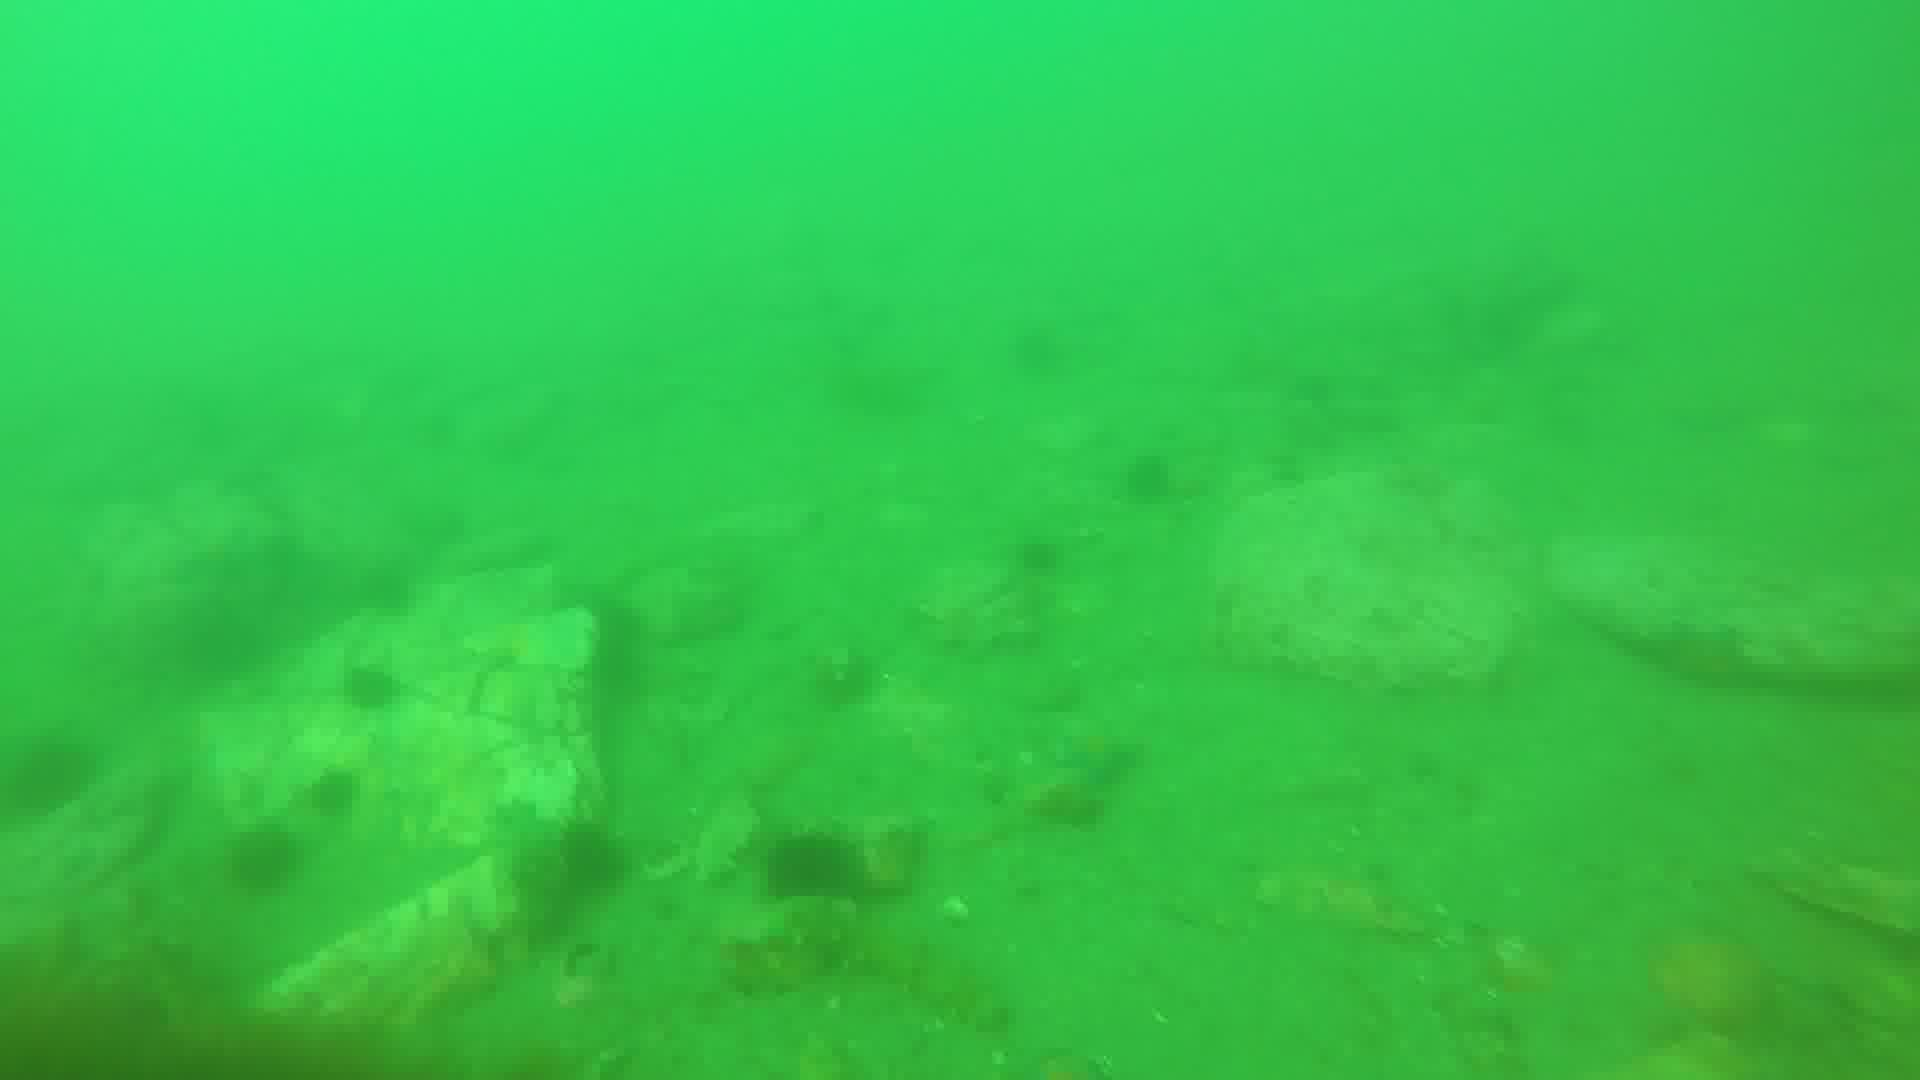echinus: (3, 731, 94, 827), (777, 825, 862, 899), (229, 818, 309, 894), (301, 766, 363, 827), (1116, 454, 1168, 504), (345, 662, 404, 707), (1014, 545, 1069, 585)
holothurian: (800, 906, 1007, 1029)
